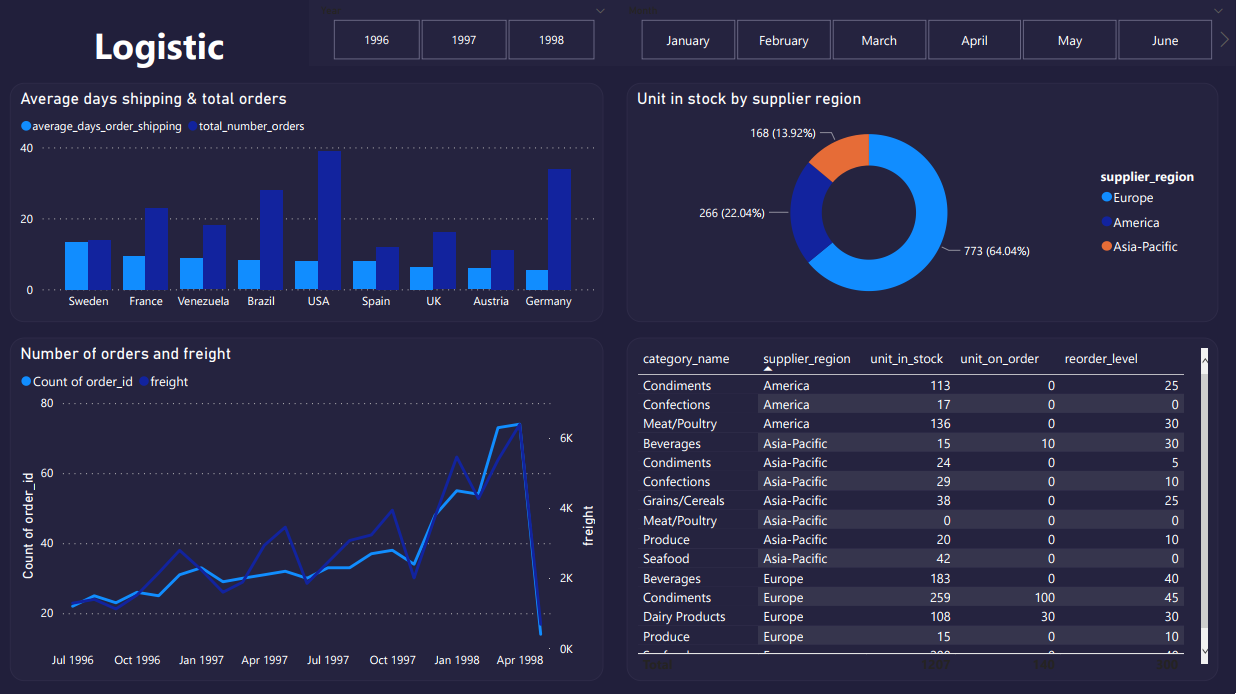

The dashboard page shown, as its layout file describes it:
{"tool":"powerbi","page":{"name":"Logistic performance","canvas":[1280,720],"ordinal":2},"visuals":[{"type":"clusteredColumnChart","title":"Average days shipping & total orders","fields":{"Category":["vw_diff_ship.ship_country"],"Y":["Sum(vw_diff_ship.average_days_order_shipping)","Sum(vw_diff_ship.total_number_orders)"]},"box":[0,68.9,630.5,291.8],"z":0},{"type":"lineChart","title":"Number of orders and freight","fields":{"Y":["CountNonNull(orders.order_id)"],"Category":["orders.order_date.Variation.Date Hierarchy.Year","orders.order_date.Variation.Date Hierarchy.Month"],"Y2":["Sum(orders.freight)"]},"box":[10.3,360.7,629.1,359.3],"z":1000},{"type":"tableEx","fields":{"Values":["vw_stock.category_name","vw_stock.supplier_region","Sum(vw_stock.unit_in_stock)","Sum(vw_stock.unit_on_order)","Sum(vw_stock.reorder_level)"]},"box":[649.6,360.7,630.5,359.3],"z":2000},{"type":"donutChart","title":"Unit in stock by supplier region","fields":{"Category":["vw_stock.supplier_region"],"Y":["Sum(vw_stock.unit_in_stock)"]},"box":[649.6,68.9,630.5,291.8],"z":3000},{"type":"slicer","fields":{"Values":["orders.order_date.Variation.Date Hierarchy.Month"]},"box":[642.1,0,637.9,68.9],"z":3001},{"type":"slicer","fields":{"Values":["orders.order_date.Variation.Date Hierarchy.Year"]},"box":[319.7,0,319.7,68.9],"z":3002},{"type":"textbox","box":[100,100,300,300],"z":3003},{"type":"textbox","box":[0,0,319.7,68.9],"z":3004}]}

Visuals, with their boxes in screenshot pixels (x1, y1, x2, y2), scaled from the page's 1280x720 canvas onto the 1236x694 screenshot:
"Average days shipping & total orders" clusteredColumnChart: [0,66,609,348]
"Number of orders and freight" lineChart: [10,348,617,693]
tableEx - vw_stock.category_name x vw_stock.supplier_region: [627,348,1235,693]
"Unit in stock by supplier region" donutChart: [627,66,1235,348]
slicer - orders.order_date.Variation.Date Hierarchy.Month: [620,0,1235,66]
slicer - orders.order_date.Variation.Date Hierarchy.Year: [309,0,617,66]
textbox: [97,96,386,386]
textbox: [0,0,309,66]
